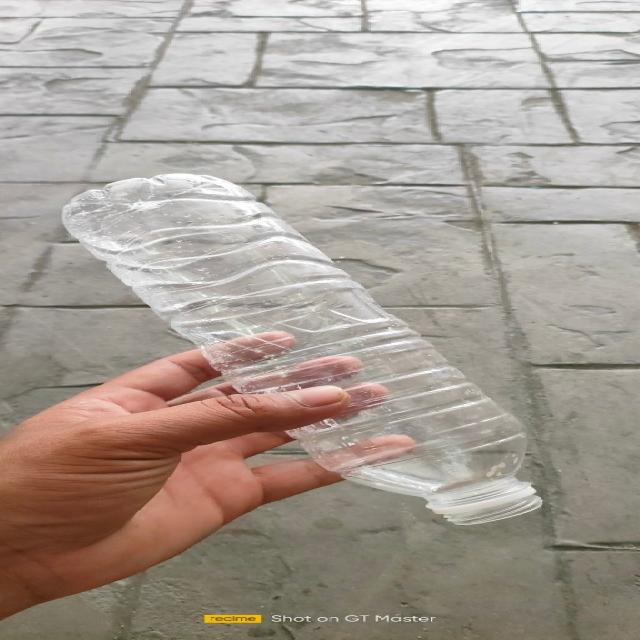plastic_bottle: (63, 174, 543, 526)
